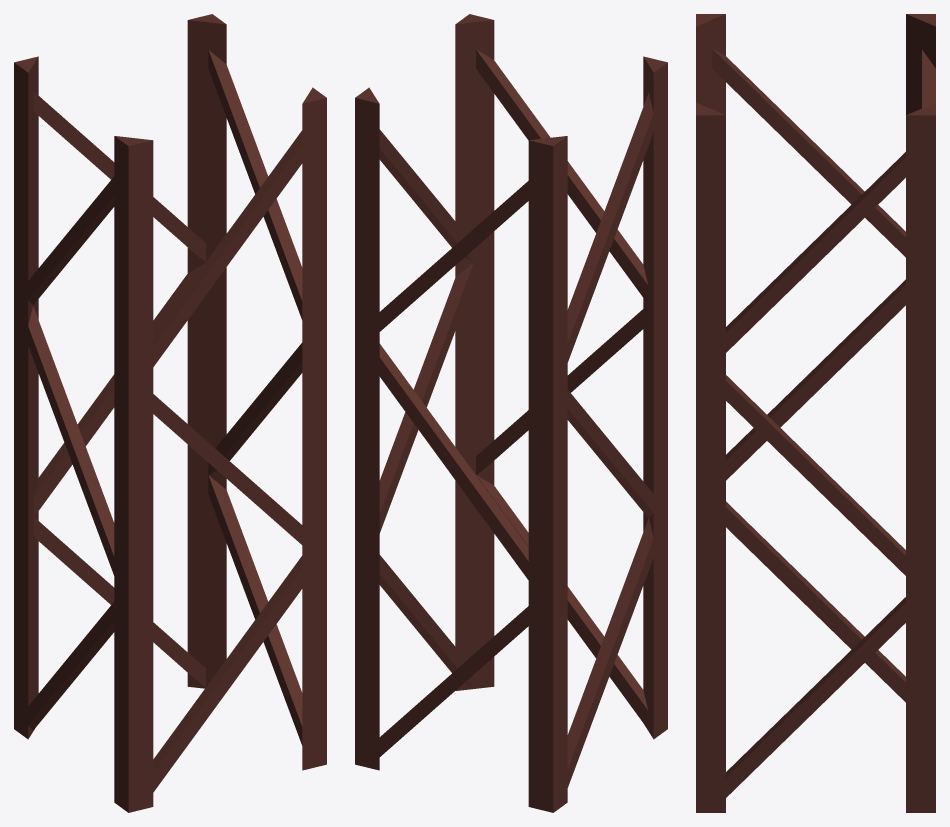
The model's file is Support-Short.fbx.
The picture shows the model from 3 angles, left to right: view 1: azimuth 30°, elevation 25°; view 2: azimuth 150°, elevation 25°; view 3: azimuth 270°, elevation 25°; orthographic projection. The views are drawn at different scales.
Parts seen in each view (by area): view 1: Support-Short; view 2: Support-Short; view 3: Support-Short.
Boxes of the visible parts, <box> form: Support-Short: <box>14,14,326,812</box>; Support-Short: <box>355,14,667,812</box>; Support-Short: <box>696,14,935,812</box>.
Bounding box in the file's own units: 68.51 × 220 × 68.51.
